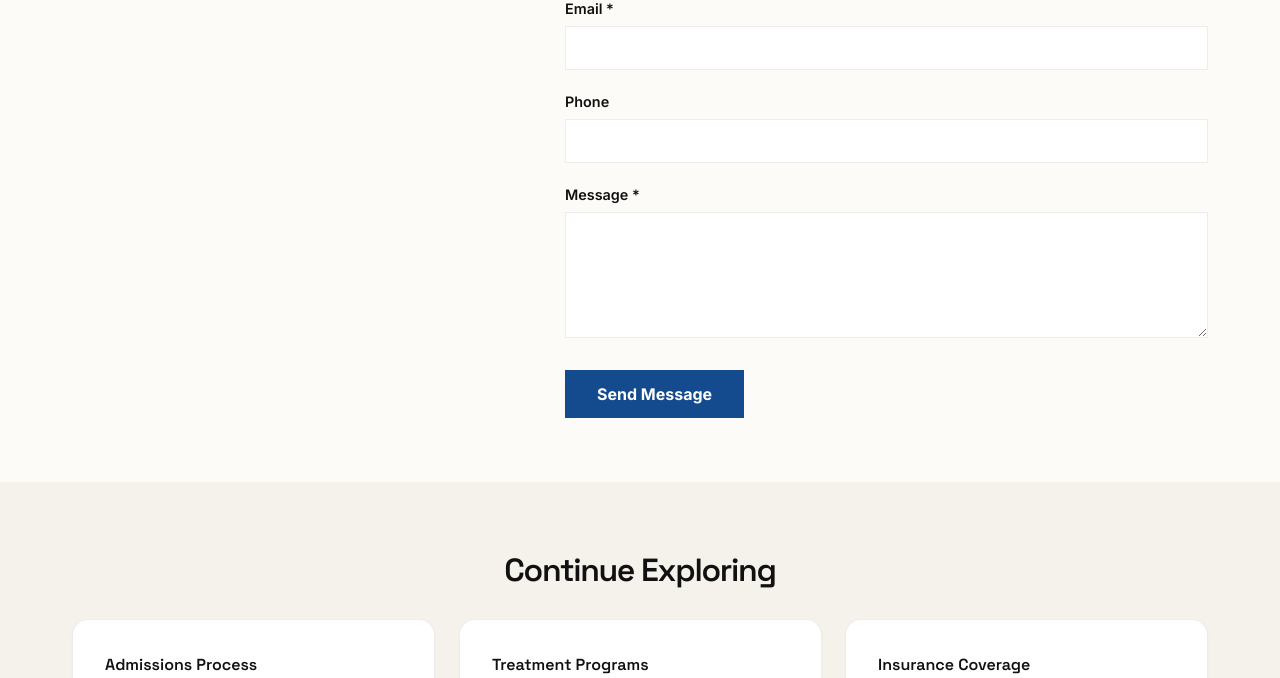
Test: Contact — client-side validation › clears field error when user types in errored field
This screenshot has width=1280, height=678.
(page scrolled)
Click the button "Send Message" at (654, 394), box [565,370,744,418]
(page scrolled)
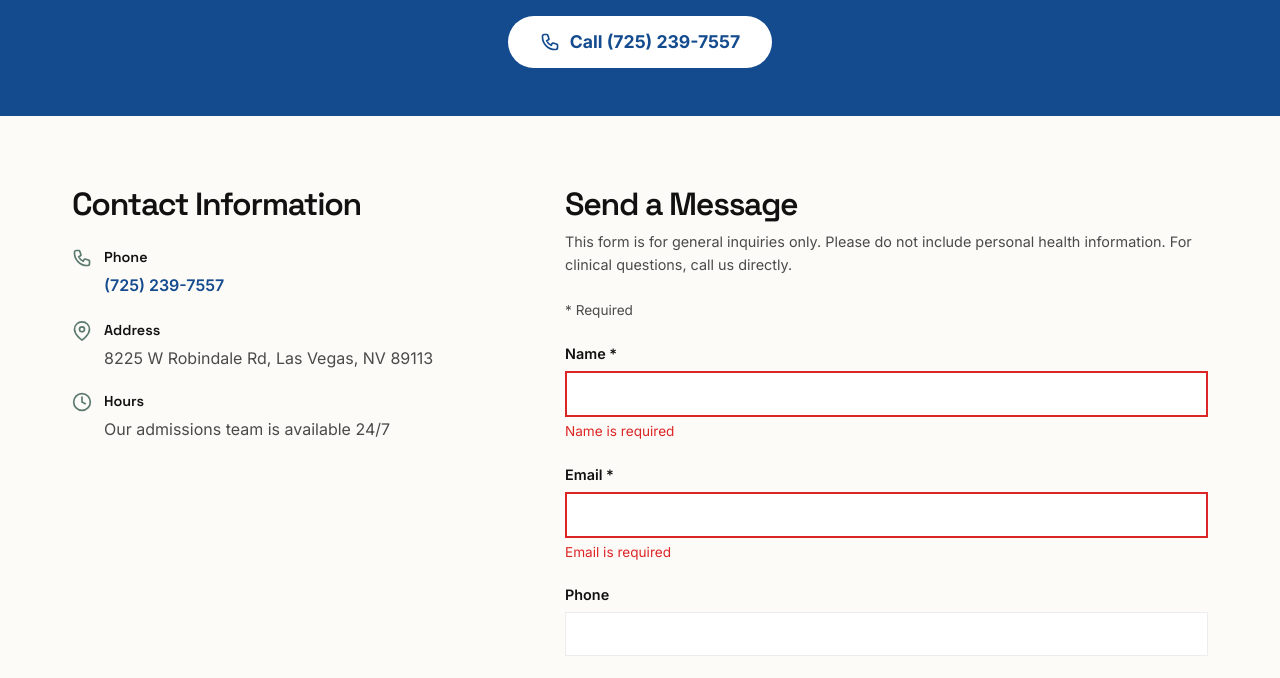
Expected: the text "Name is required" is shown, [565,423,674,439]
Type "A" into the field labelled "Name *" at (886, 394), box [565,371,1208,417]
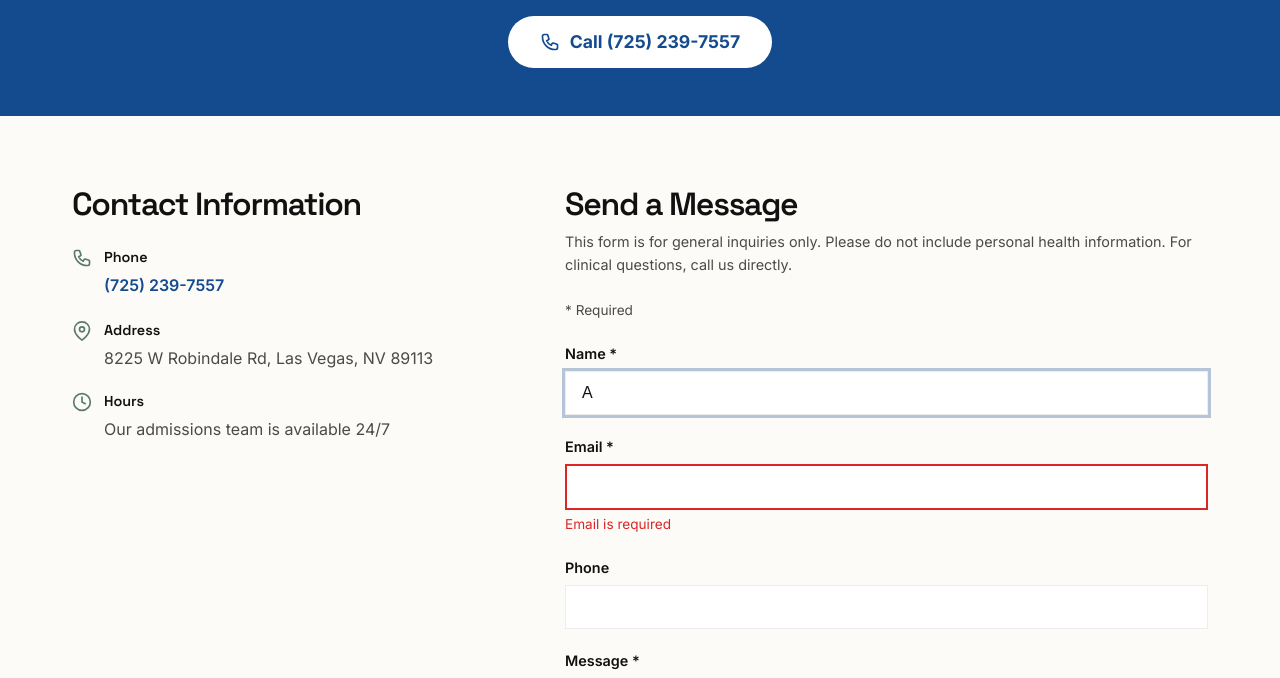
Expected: the text "Name is required" is gone
